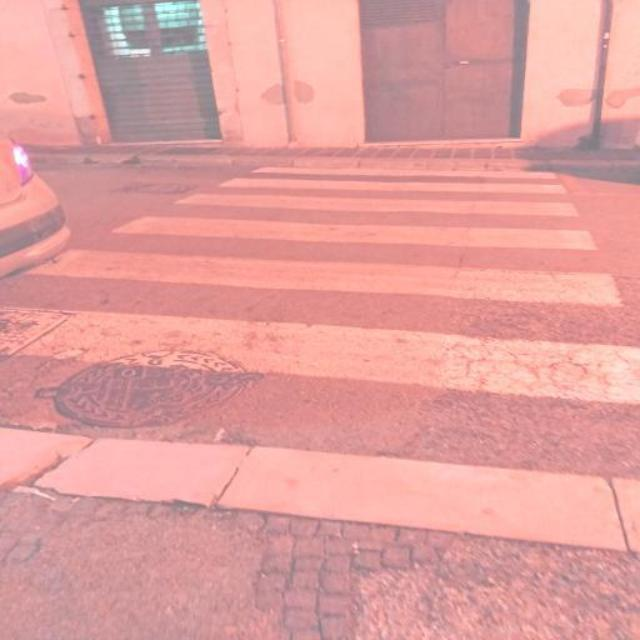sidewalk: (0, 166, 640, 403)
